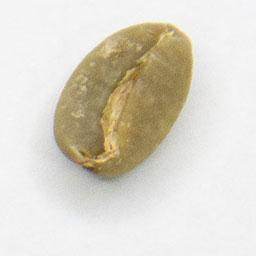premium: (51, 18, 197, 182)
